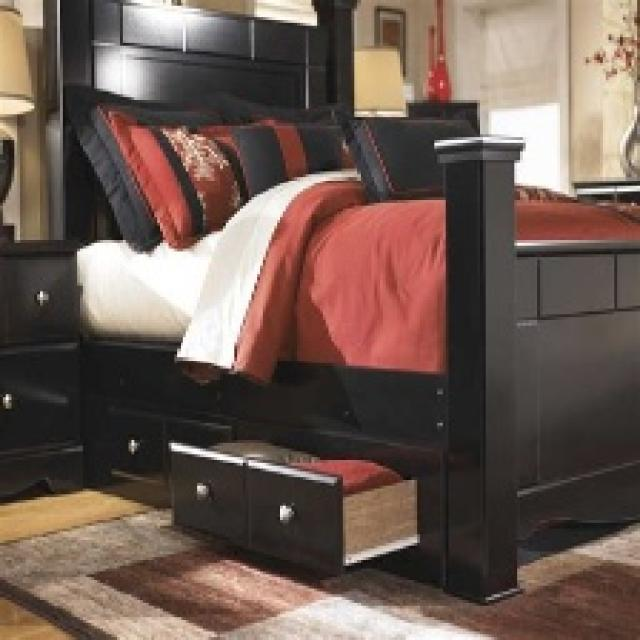bed: (38, 0, 638, 612), (41, 0, 640, 609)
